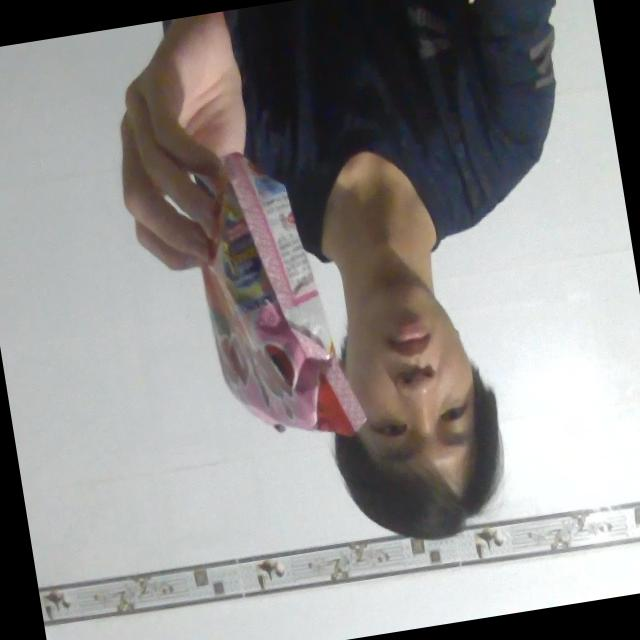mi hao hao: (162, 122, 382, 468)
